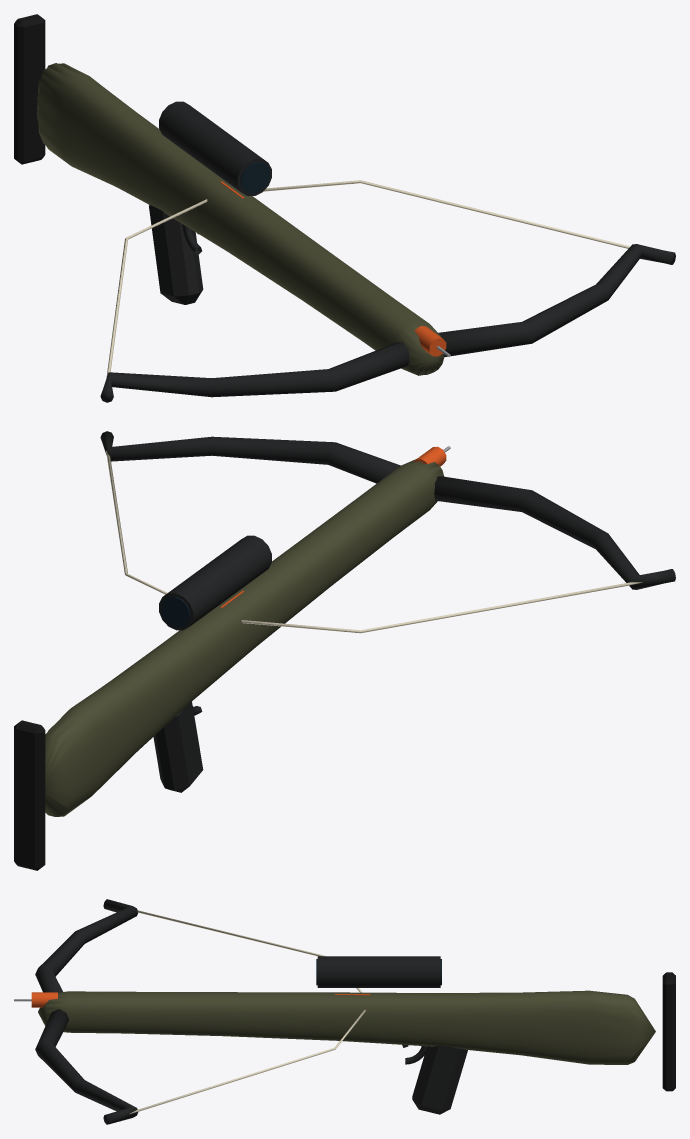
Rendered from biopsy_crossbow.glb.
3 renders of one model, top to bottom at view 1: azimuth 30°, elevation 25°; view 2: azimuth 150°, elevation 25°; view 3: azimuth 270°, elevation 25°, orthographic. The views are drawn at different scales.
Parts seen in each view (by area): view 1: biopsy_crossbow; view 2: biopsy_crossbow; view 3: biopsy_crossbow.
Boxes of the visible parts, left/top/right/bottom form: biopsy_crossbow: left=14, top=14, right=675, bottom=402; biopsy_crossbow: left=14, top=431, right=675, bottom=870; biopsy_crossbow: left=14, top=899, right=675, bottom=1124.
Size of the model in its own units: 0.59 by 0.1945 by 0.7525.
